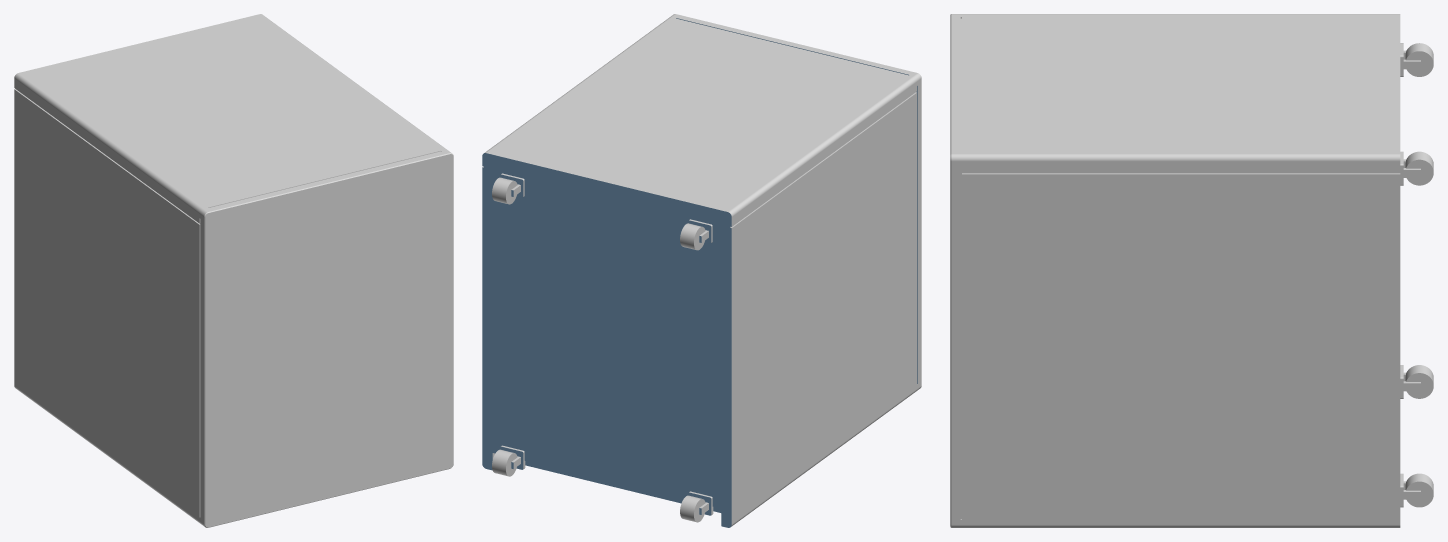
File: office_pedestal.glb
The picture shows the model from 3 angles, left to right: view 1: azimuth 30°, elevation 25°; view 2: azimuth 150°, elevation 25°; view 3: azimuth 270°, elevation 25°; orthographic projection. The views are drawn at different scales.
Visible parts, largest first — view 1: geometry_0; view 2: geometry_0; view 3: geometry_0.
Part boxes in pixels (bbox=[...]): geometry_0: bbox=[14, 14, 453, 527]; geometry_0: bbox=[482, 14, 921, 527]; geometry_0: bbox=[950, 14, 1433, 527].
Bounding box in the file's own units: 430 × 520 × 610.
